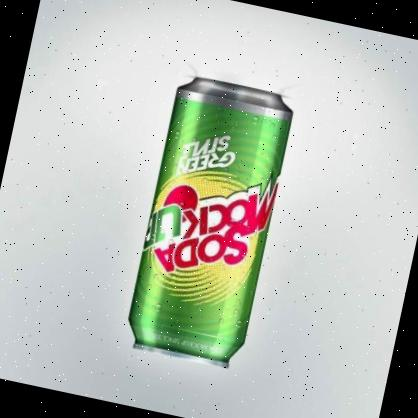can: (116, 71, 305, 380)
